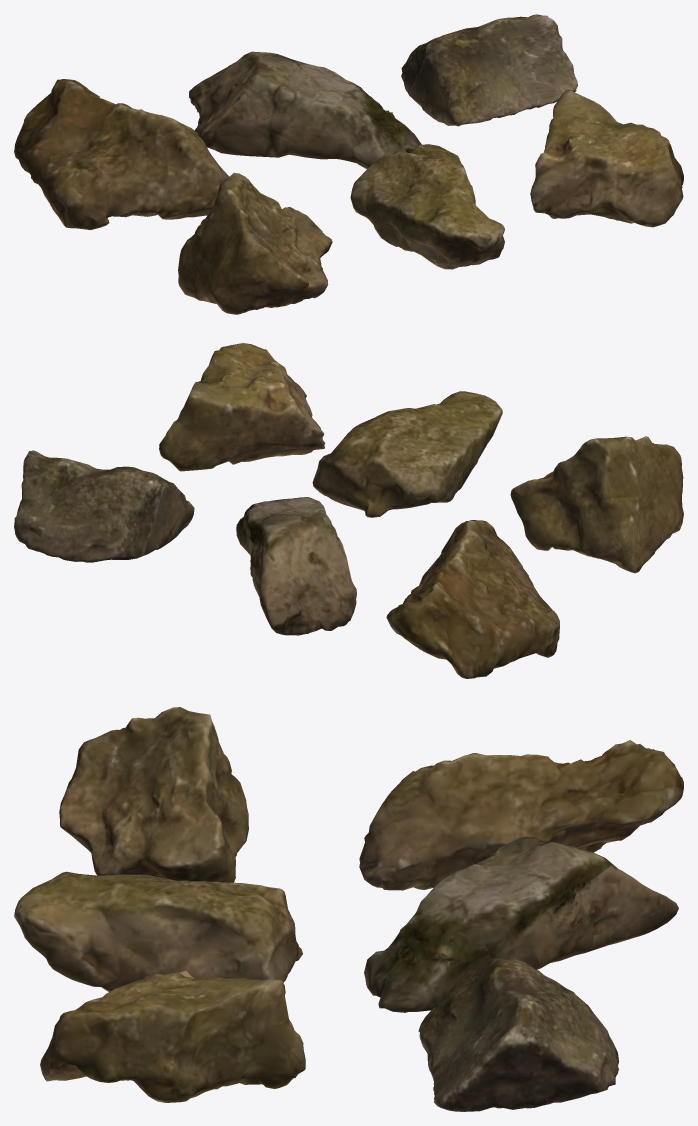
File: rock_moss_set_01.glb
The picture shows the model from 3 angles, top to bottom: view 1: azimuth 30°, elevation 25°; view 2: azimuth 150°, elevation 25°; view 3: azimuth 270°, elevation 25°; orthographic projection. The views are drawn at different scales.
Parts seen in each view (by area): view 1: rock_moss_set_01_rock01, rock_moss_set_01_rock02, rock_moss_set_01_rock06, rock_moss_set_01_rock04, rock_moss_set_01_rock03, rock_moss_set_01_rock05; view 2: rock_moss_set_01_rock04, rock_moss_set_01_rock01, rock_moss_set_01_rock05, rock_moss_set_01_rock03, rock_moss_set_01_rock06, rock_moss_set_01_rock02; view 3: rock_moss_set_01_rock01, rock_moss_set_01_rock02, rock_moss_set_01_rock05, rock_moss_set_01_rock06, rock_moss_set_01_rock04, rock_moss_set_01_rock03.
Boxes of the visible parts, x1,y1,x2,y2 form: rock_moss_set_01_rock01: (14, 79, 229, 229); rock_moss_set_01_rock02: (189, 51, 421, 168); rock_moss_set_01_rock06: (530, 89, 683, 227); rock_moss_set_01_rock04: (178, 172, 332, 314); rock_moss_set_01_rock03: (401, 14, 577, 126); rock_moss_set_01_rock05: (350, 144, 504, 269); rock_moss_set_01_rock04: (510, 436, 683, 573); rock_moss_set_01_rock01: (386, 520, 559, 678); rock_moss_set_01_rock05: (312, 391, 502, 517); rock_moss_set_01_rock03: (14, 450, 194, 562); rock_moss_set_01_rock06: (159, 343, 325, 471); rock_moss_set_01_rock02: (236, 497, 356, 635); rock_moss_set_01_rock01: (359, 740, 683, 890); rock_moss_set_01_rock02: (364, 836, 678, 1012); rock_moss_set_01_rock05: (14, 871, 302, 991); rock_moss_set_01_rock06: (40, 970, 305, 1102); rock_moss_set_01_rock04: (59, 707, 248, 882); rock_moss_set_01_rock03: (418, 956, 618, 1111).
Size of the model in its own units: 8 by 1.76 by 6.94.
1 material, 1 textured.
